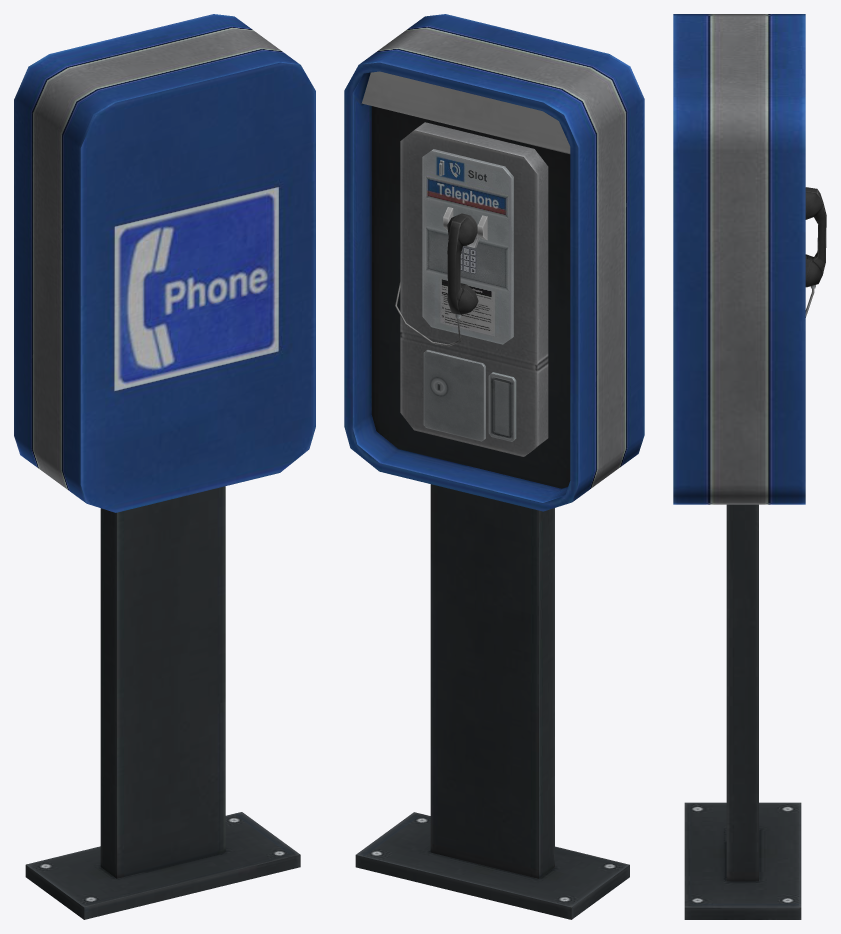
Rendered from Payphone.glb.
3 renders of one model, left to right at view 1: azimuth 30°, elevation 25°; view 2: azimuth 150°, elevation 25°; view 3: azimuth 270°, elevation 25°, orthographic.
Visible parts, largest first — view 1: Payphone__LOD3; view 2: Payphone__LOD3; view 3: Payphone__LOD3.
Boxes of the visible parts, x1,y1,x2,y2 form: Payphone__LOD3: (14,14,315,919); Payphone__LOD3: (344,14,644,919); Payphone__LOD3: (673,14,826,919).
Bounding box in the file's own units: 0.6601 × 2.19 × 0.3744.
1 material, 1 textured.
